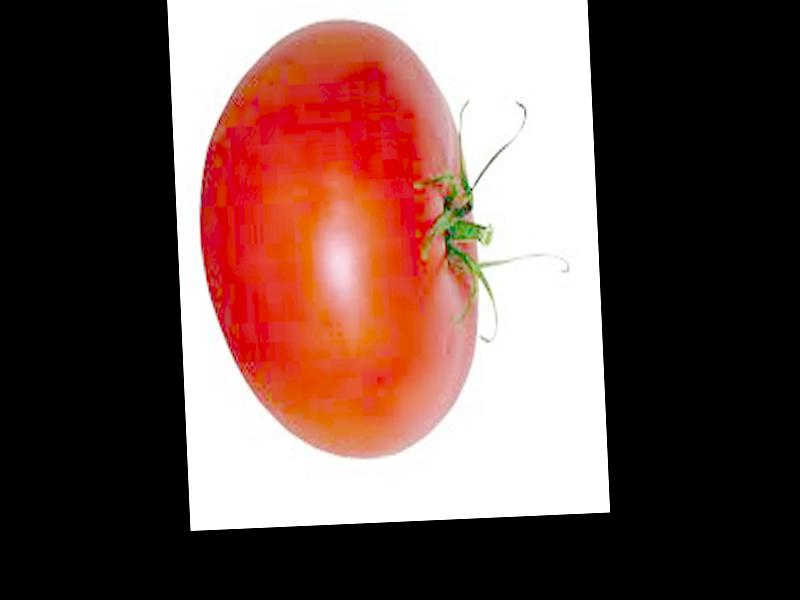Tomato: (192, 15, 488, 468)
